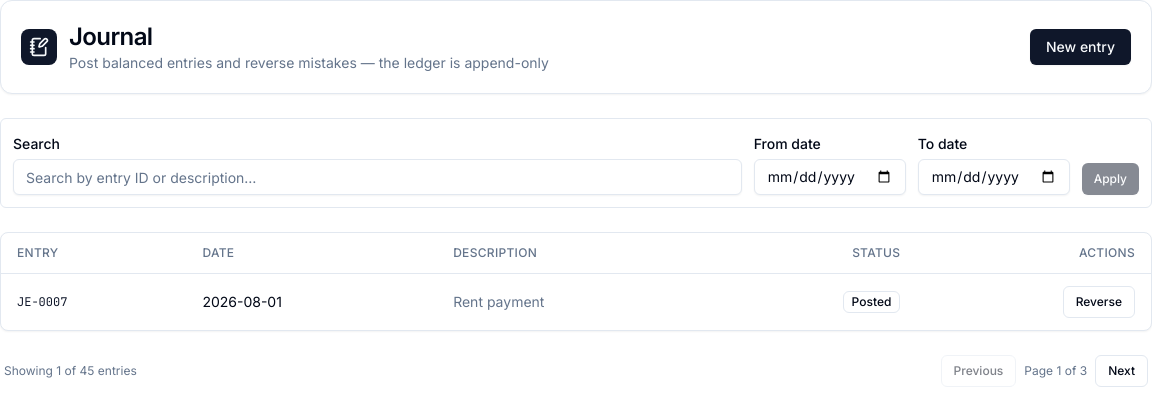
JournalView — ledger pagination › requests the next page from the hook when Next is clicked
The width and height of the screenshot is (1152, 408).
Click the button "Next": (1122, 371) [1095, 355, 1148, 387]
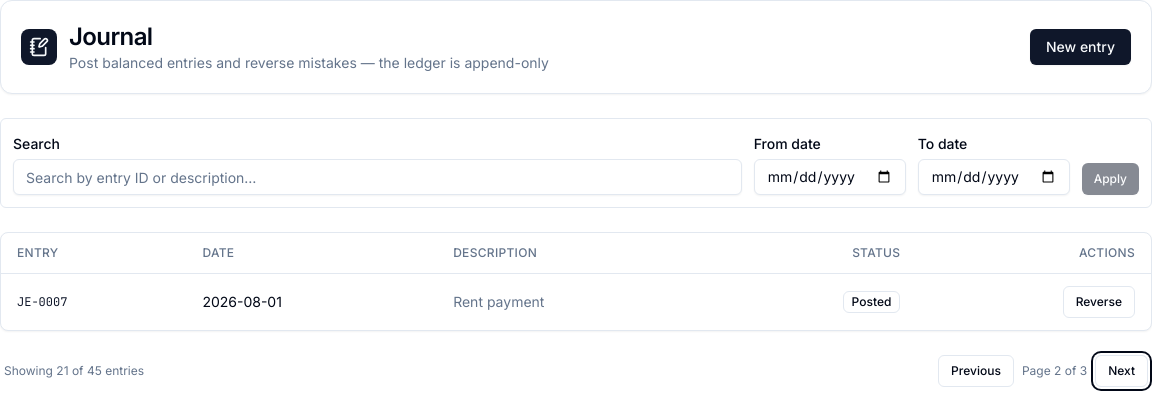
Result: the text "Page 2 of 3" is shown at [1022, 363, 1087, 379]
